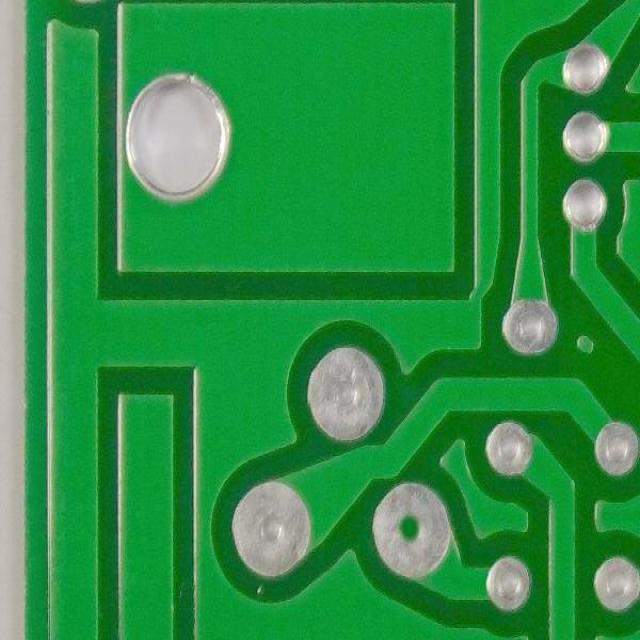missing hole: (370, 479, 456, 581)
